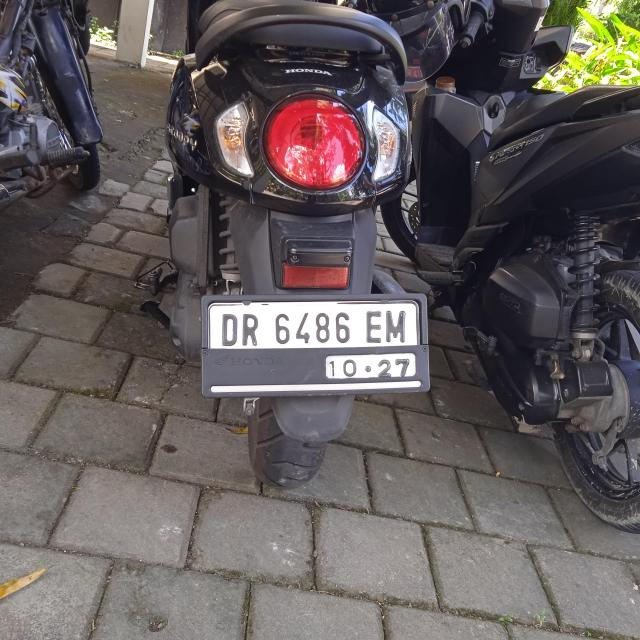plate: (210, 301, 421, 383)
